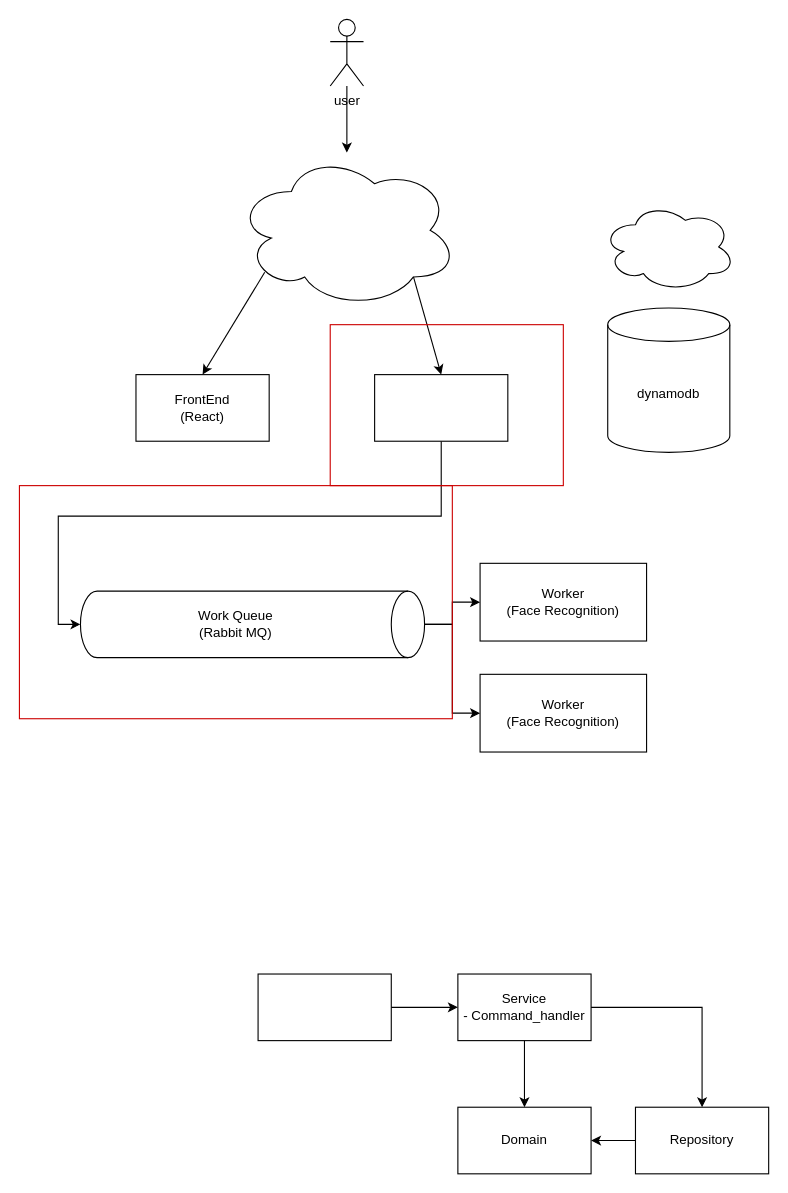
This 788x1193 diagram has some shape labels left out. The shapes that lost their labels are listed below. From the top down, each one's box as (x1, y1, x2, y2) in pixels, then its label:
(235, 152, 458, 308): Route53 (Amazon)
(601, 201, 735, 291): s3 (Amazon)
(374, 374, 508, 441): BackEnd (FastApi)
(257, 973, 391, 1041): Interface
